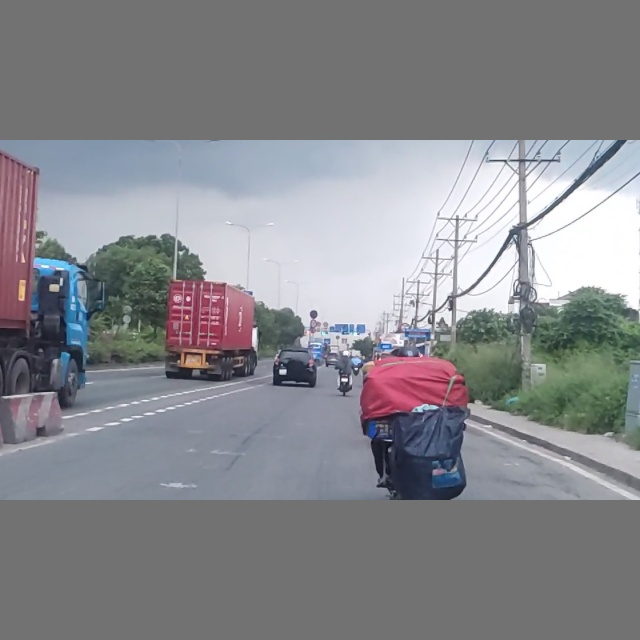P.130: (309, 310, 319, 318)
